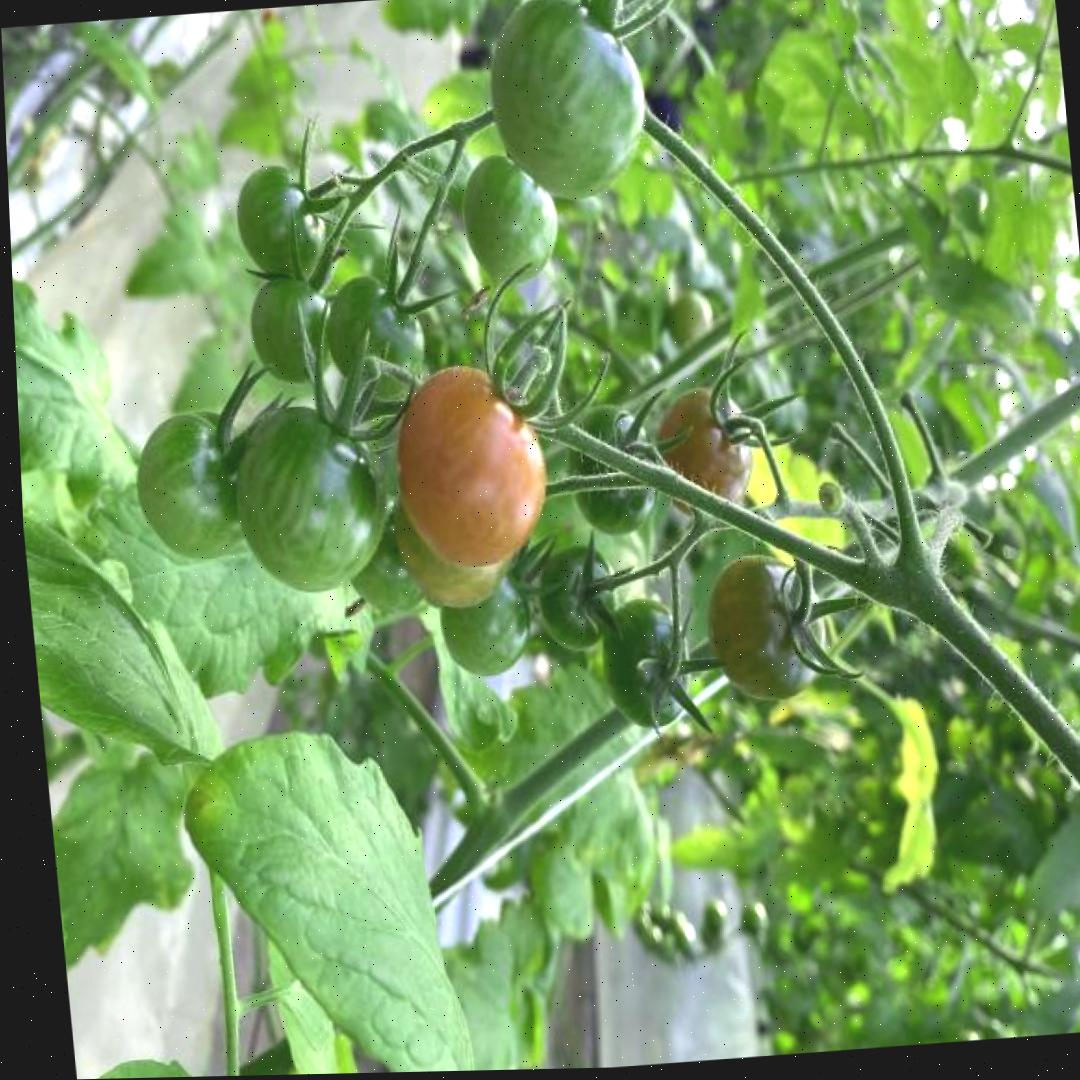matang: (384, 358, 557, 579)
mentah: (477, 0, 650, 207), (227, 401, 395, 599), (126, 407, 253, 568), (453, 149, 562, 288), (320, 268, 429, 404), (591, 593, 695, 732), (229, 160, 328, 288), (530, 539, 623, 653)
setengah_matang: (698, 548, 830, 705), (647, 386, 758, 525)
